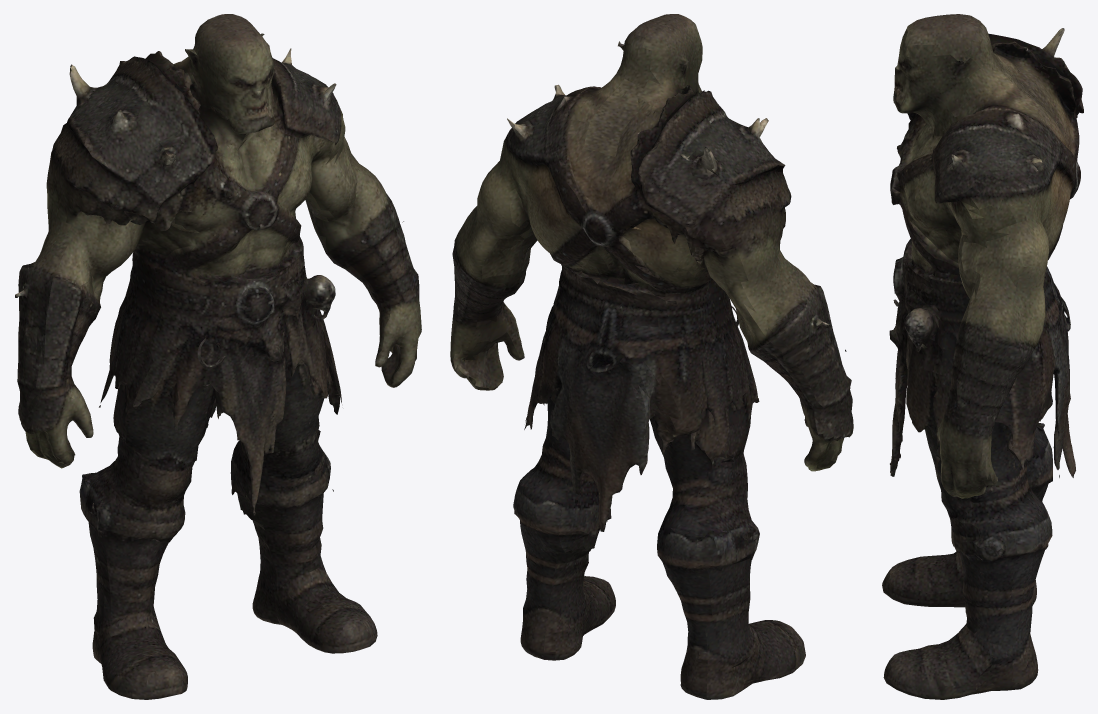
File: orc-male-warrior-pixelated.glb
3 views of the same model, side by side, from view 1: azimuth 30°, elevation 25°; view 2: azimuth 150°, elevation 25°; view 3: azimuth 270°, elevation 25° (orthographic). The views are drawn at different scales.
Parts seen in each view (by area): view 1: geometry_0; view 2: geometry_0; view 3: geometry_0.
Boxes of the visible parts, x1,y1,x2,y2 form: geometry_0: (15,14,421,699); geometry_0: (450,14,853,699); geometry_0: (882,14,1083,699).
Bounding box in the file's own units: 1.31 × 2 × 0.5864.
1 material, 1 textured.
